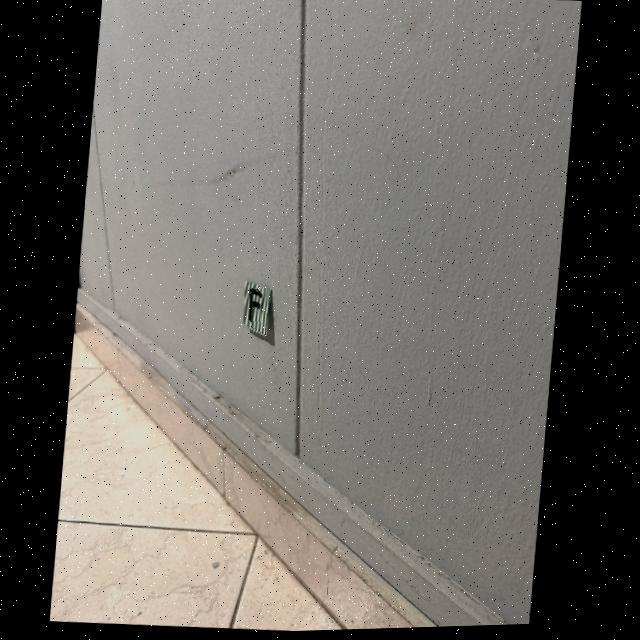F: (250, 290, 264, 323)
